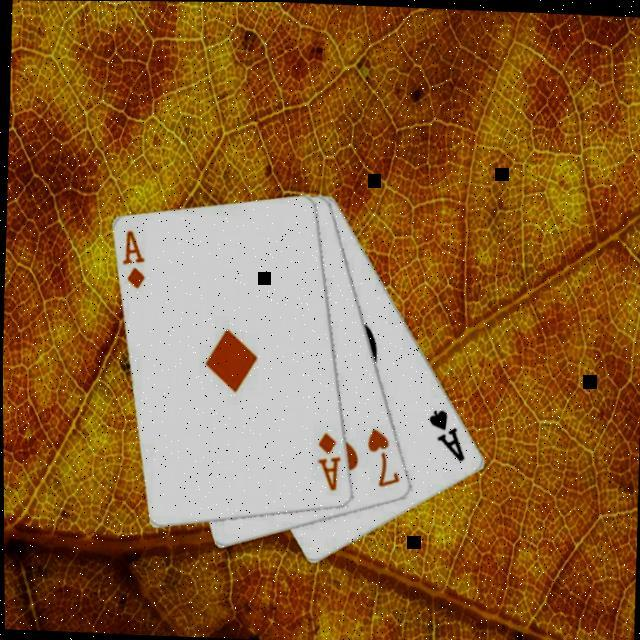7H: (361, 422, 402, 488)
AD: (311, 426, 341, 491), (118, 225, 146, 290)
AS: (421, 403, 467, 462)
